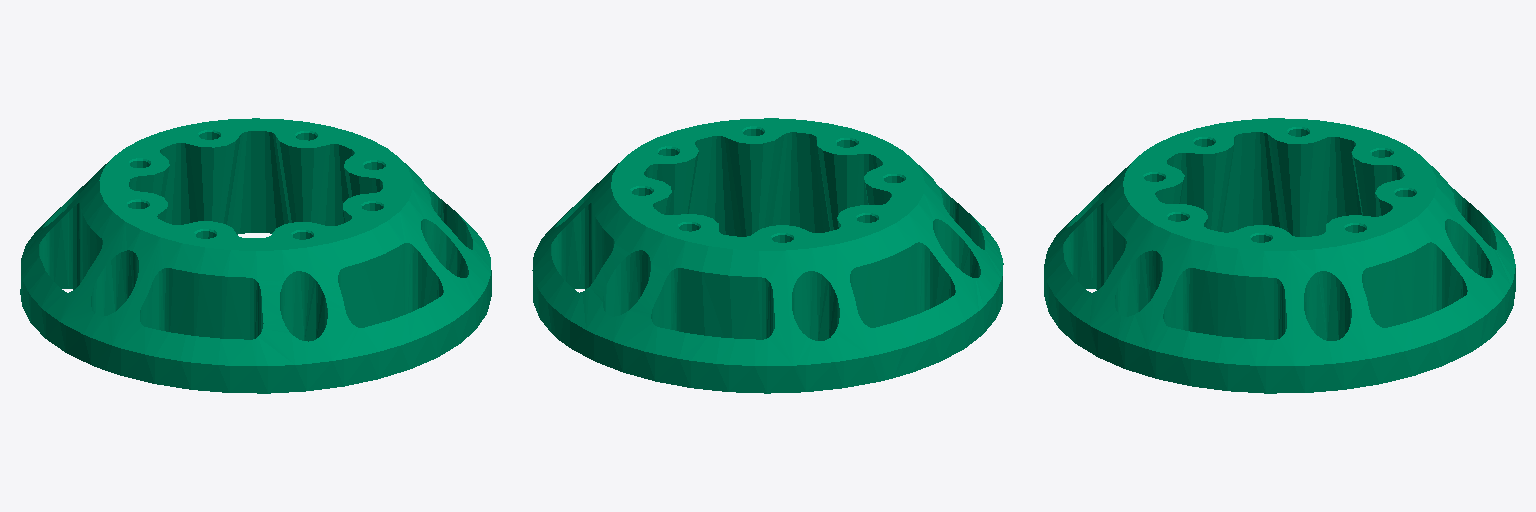
robot.urdf — ATS_01:
<?xml version="1.0" encoding="UTF-8"?>
<robot name="ATS_01">
  <joint name="joint1" type="revolute">
    <origin xyz="0. 0. 0." rpy="1.5710436 -0.0003145 1.8161526"/>
    <parent link="Root"/>
    <child link="ATS_link1"/>
    <axis xyz="0. 1. 0."/>
  </joint>
  <joint name="joint2" type="revolute">
    <origin xyz="0. 0.27175 -0.017154" rpy="0. 0. 0. "/>
    <parent link="ATS_link1"/>
    <child link="ATS_link2"/>
    <axis xyz="1. 0. 0."/>
  </joint>
  <link name="ATS_link1">
    <inertial>
      <origin xyz="-0.0049281 0.14856 0.014146 " rpy="0. 0. 0."/>
      <mass value="2.6273999"/>
      <inertia ixx="0.013459" ixy="-0.0002424" ixz="0.0001308" iyy="0.018778" iyz="0.002281" izz="0.021517"/>
    </inertial>
    <visual>
      <origin xyz="0. 0. 0." rpy="-0.0000001 0. 0. "/>
      <geometry>
        <mesh filename="package://ATS/meshes/ATS_link1_visuals_link1_mesh.obj" scale="1. 1. 1."/>
      </geometry>
    </visual>
    <visual>
      <origin xyz="0. 0. 0." rpy="-0.0000001 0. 0. "/>
      <geometry>
      
        <mesh filename="package://ATS/meshes/ATS_link1_collisions_link1_mesh.obj" scale="1. 1. 1."/>
      </geometry>
    </visual>
    <collision>
      <origin xyz="0. 0. 0." rpy="-0.0000001 0. 0. "/>
      <geometry>
        <mesh filename="package://ATS/meshes/ATS_link1_collisions_link1_mesh.obj" scale="1. 1. 1."/>
      </geometry>
    </collision>
  </link>
  <link name="ATS_link2">
    <inertial>
      <origin xyz="-0.0094763 0.026223 -0.040506 " rpy="0. 0. 0."/>
      <mass value="1.3987"/>
      <inertia ixx="0.0046118" ixy="0.0000028" ixz="0.0000088" iyy="0.0039548" iyz="0.0001337" izz="0.0011478"/>
    </inertial>
    <visual>
      <origin xyz="0. 0. 0." rpy="0. 0. 0."/>
      <geometry>
        <mesh filename="package://ATS/meshes/ATS_link2_visuals_link2_mesh.obj" scale="1. 1. 1."/>
      </geometry>
    </visual>
    <visual>
      <origin xyz="0. 0. 0." rpy="0. 0. 0."/>
      <geometry>
        <mesh filename="package://ATS/meshes/ATS_link2_collisions_link2_mesh.obj" scale="1. 1. 1."/>
      </geometry>
    </visual>
    <collision>
      <origin xyz="0. 0. 0." rpy="0. 0. 0."/>
      <geometry>
        <mesh filename="package://ATS/meshes/ATS_link2_collisions_link2_mesh.obj" scale="1. 1. 1."/>
      </geometry>
    </collision>
  </link>
  <link name="Root">
    <visual>
      <origin xyz="0. 0. 0." rpy="0.0002436 -0.0003145 1.8161526"/>
      <geometry>
        <mesh filename="package://ATS/meshes/ATS_base_link_visuals_base_link_mesh.obj" scale="1. 1. 1."/>
      </geometry>
    </visual>
    <visual>
      <origin xyz="0. 0. 0." rpy="0.0002436 -0.0003145 1.8161526"/>
      <geometry>
        <mesh filename="package://ATS/meshes/ATS_base_link_collisions_base_link_mesh.obj" scale="1. 1. 1."/>
      </geometry>
    </visual>
    <collision>
      <origin xyz="0. 0. 0." rpy="0.0002436 -0.0003145 1.8161526"/>
      <geometry>
        <mesh filename="package://ATS/meshes/ATS_base_link_collisions_base_link_mesh.obj" scale="1. 1. 1."/>
      </geometry>
    </collision>
  </link>
</robot>

--- Render facts (derived) ---
3 views of the same robot in one strip: view 1: azimuth 30°, elevation 25°; view 2: azimuth 150°, elevation 25°; view 3: azimuth 270°, elevation 25° (orthographic).
Robot: ATS_01 — 3 links, 2 joints (2 revolute); root link Root; default pose: every joint at zero.
Links seen in each view (by area): view 1: Root; view 2: Root; view 3: Root.
Boxes of the visible links, left/top/right/bottom form: Root: left=20, top=118, right=491, bottom=393; Root: left=532, top=118, right=1003, bottom=393; Root: left=1044, top=118, right=1515, bottom=393.
Bounding box of the posed robot: 0.2433 × 0.2437 × 0.0626 m (x, y, z).
Meshes: 6 distinct files referenced, 2 mesh visuals loaded (2 OBJ); not drawn: 4 (reference not matched to a file when rendering).